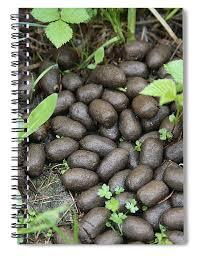Elk: (46, 63, 169, 231)
